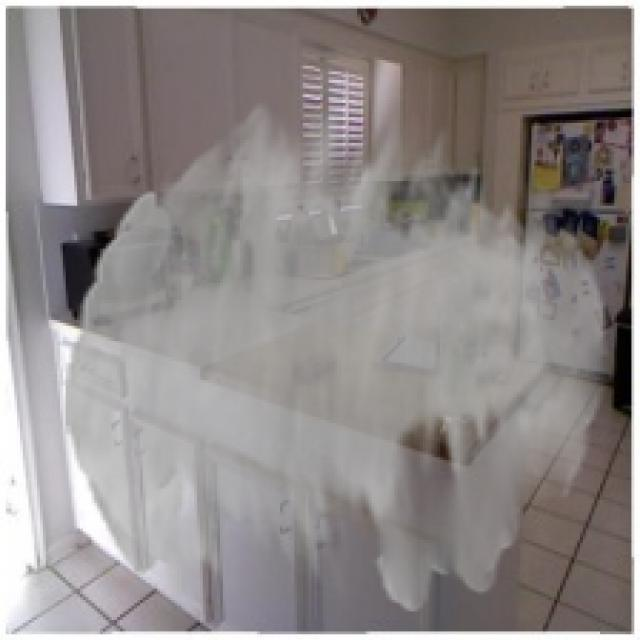Smoke: (66, 97, 608, 612)
